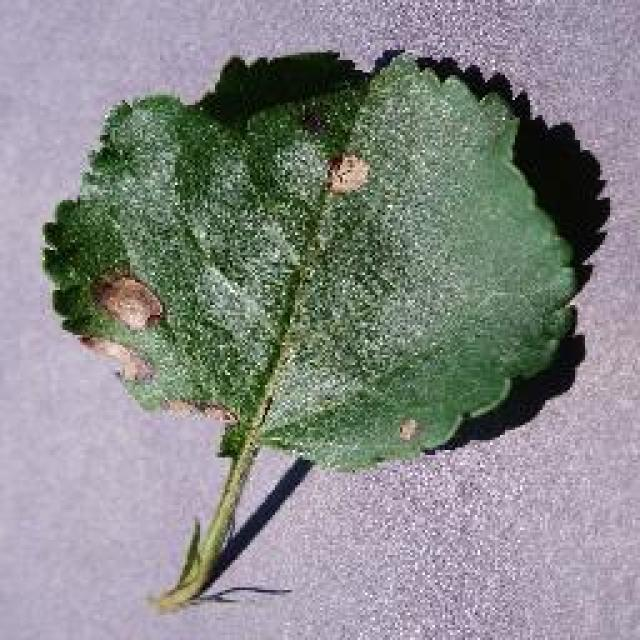App_Black_rot: (74, 266, 241, 422), (311, 134, 381, 211)
